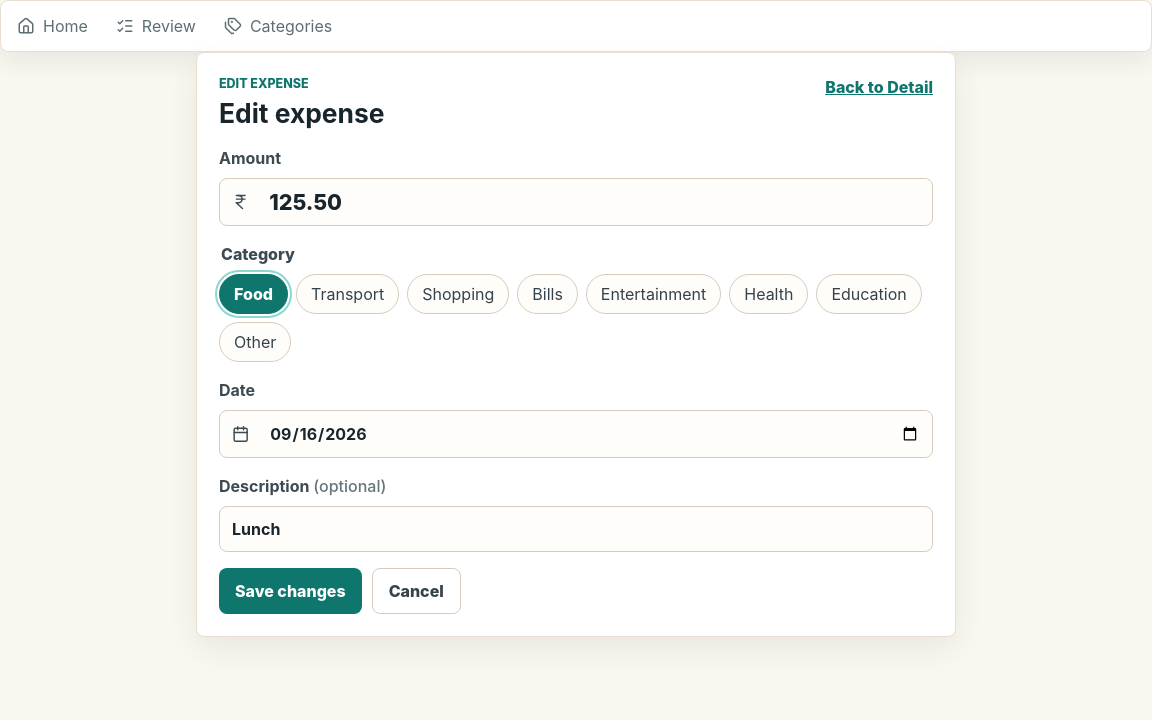
Test case: Home shell › preserves entered edit values when frontend validation fails
Clear the field labelled "Amount" at {"x": 595, "y": 202}, box [257,179,932,225]
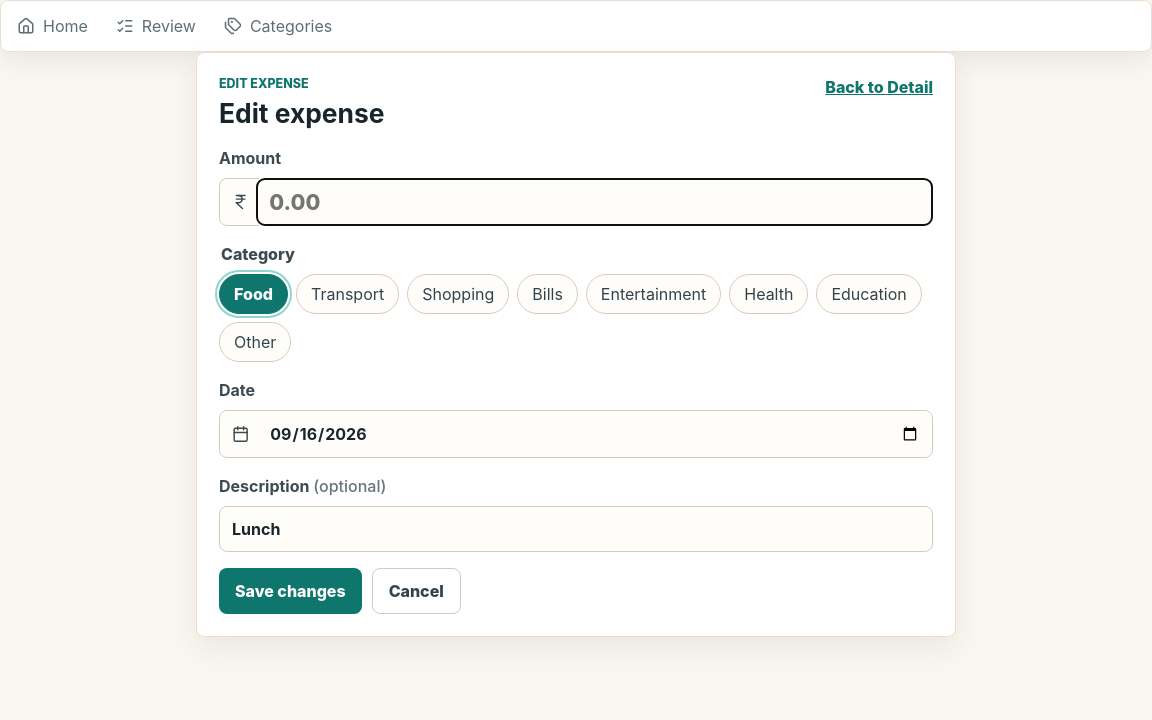
Replace the text in the field labelled "Description (optional)" with "Still here" at {"x": 576, "y": 529}, box [219,506,933,552]
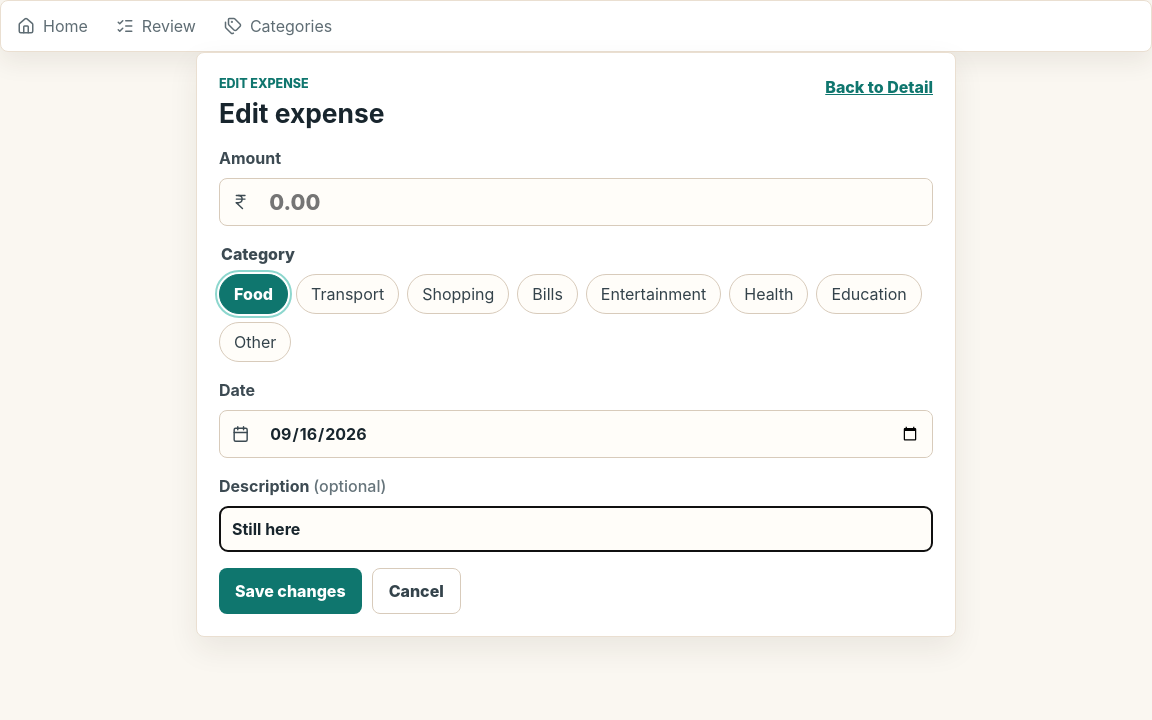
Click the button "Save changes" at {"x": 290, "y": 591}, box [219,568,362,614]
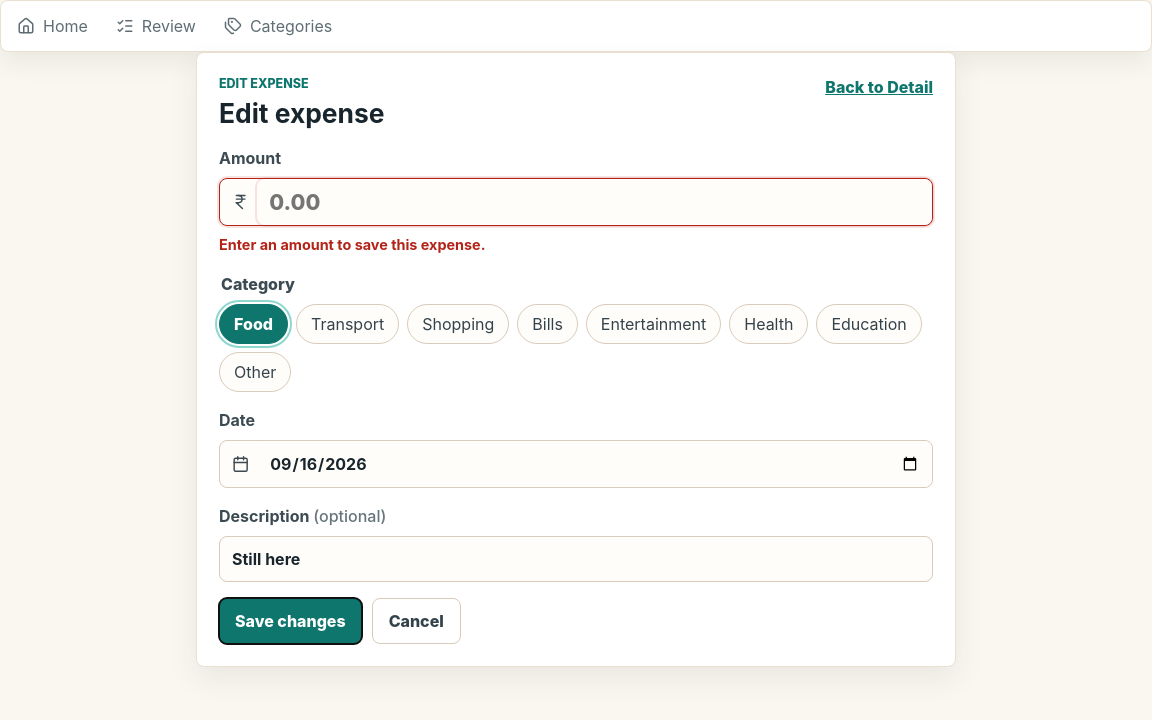
expect the text "Enter an amount to save this expense." is shown: met, box [219,236,486,253]
